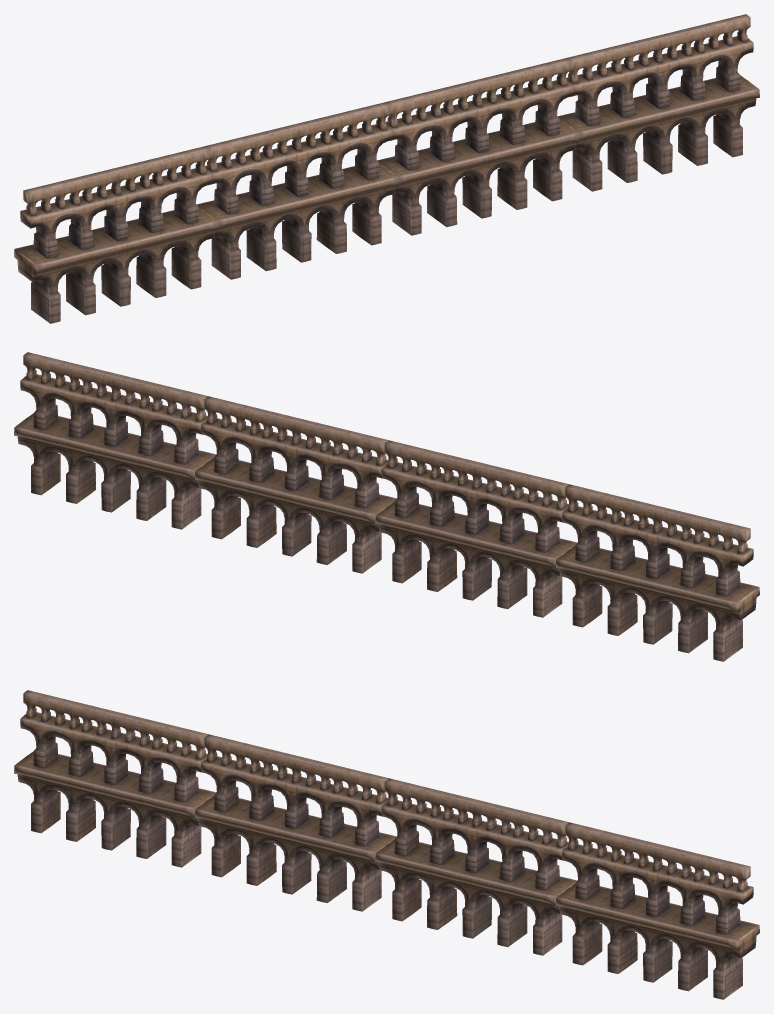
Rendered from Aqueduct.glb.
3 views of the same model, one above another, from view 1: azimuth 30°, elevation 25°; view 2: azimuth 150°, elevation 25°; view 3: azimuth 330°, elevation 25° (orthographic).
Visible parts, largest first — view 1: low; view 2: low; view 3: low.
Boxes of the visible parts, x1,y1,x2,y2 form: low: [14, 14, 759, 323]; low: [14, 352, 759, 661]; low: [14, 690, 759, 999].
Size of the model in its own units: 150 by 25.54 by 8.34.
Materials: 1 (1 with a texture image).
